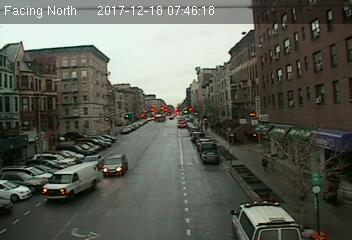car: (100, 154, 129, 178), (200, 150, 221, 165)
police: (229, 199, 313, 240)
truck: (43, 163, 99, 200)
